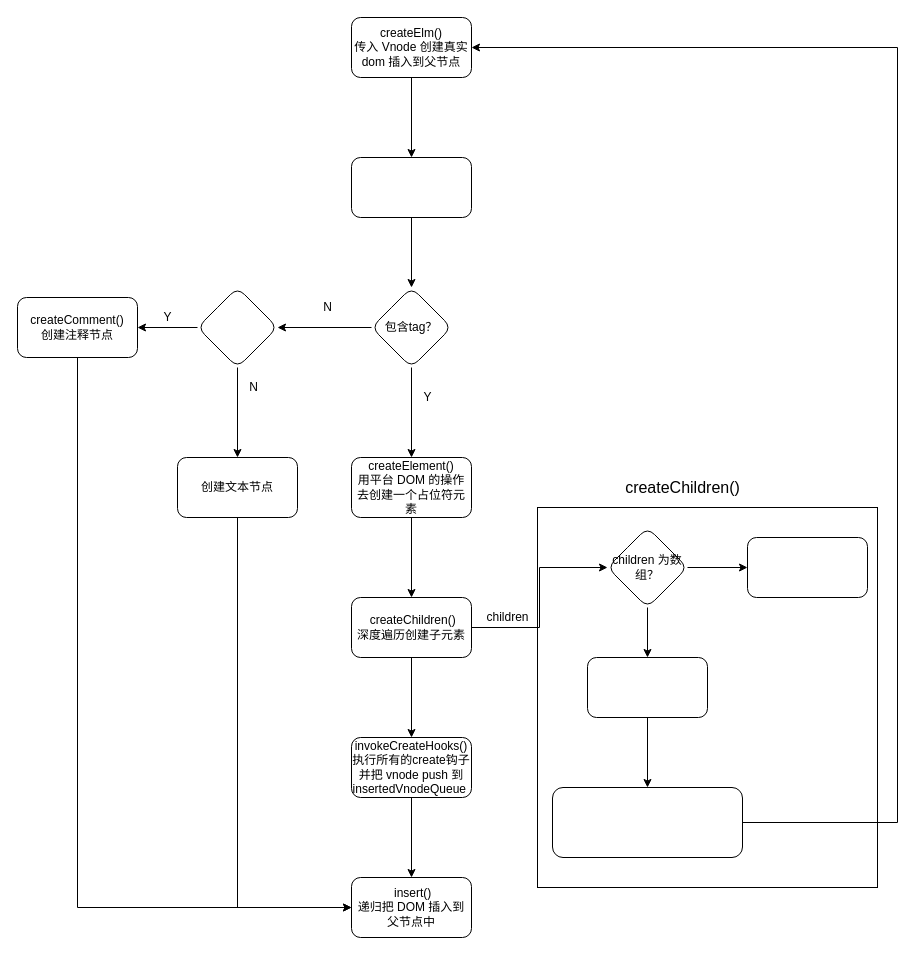
This 923x955 diagram has some shape labels left out. The shapes that lost their labels are listed below. From the top down, each one's centre as x and y in pixels, then its label:
point 411,187: createComponent() 创建一个组件节点
point 237,327: 注释节点?
point 807,567: 创建文本节点并添加到dom中
point 647,687: checkDuplicateKeys() 检查数组key是否重复
point 647,822: 遍历 children 数组 递归调用 createElem() 创建子元素 (在遍历过程中会把当前元素作为父容器的 DOM 节点占位符传入)
